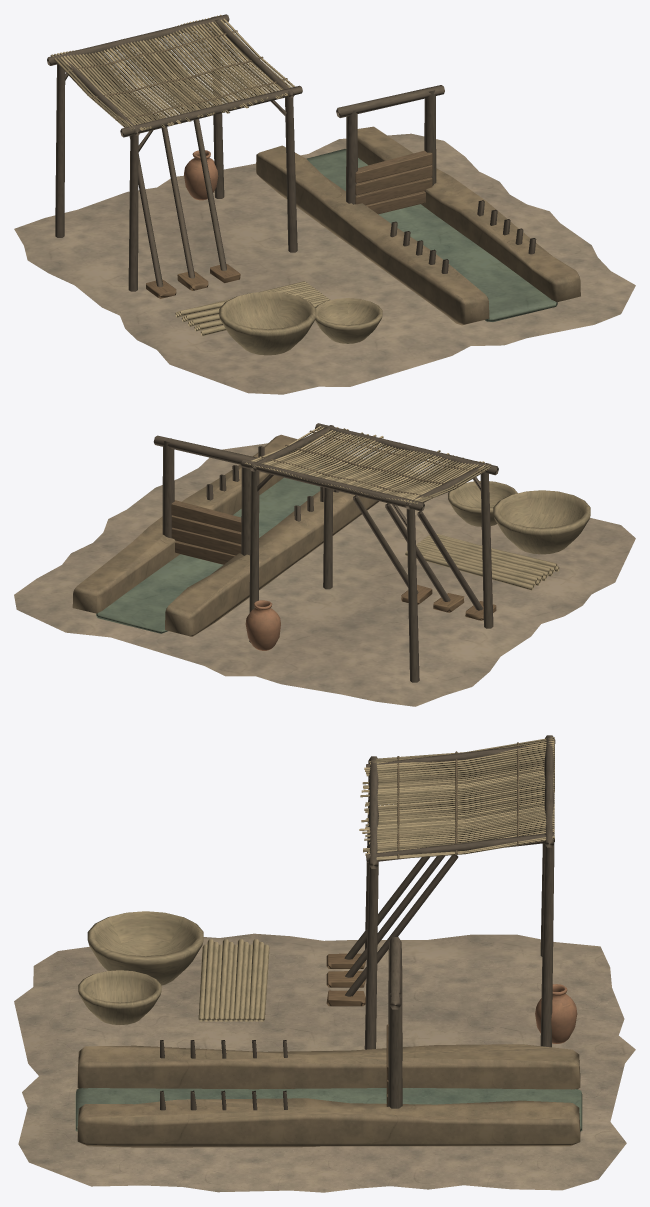
File: irrigation-yard.glb
3 views of the same model, one above another, from view 1: azimuth 30°, elevation 25°; view 2: azimuth 150°, elevation 25°; view 3: azimuth 270°, elevation 25° (orthographic). The views are drawn at different scales.
Parts seen in each view (by area): view 1: irrigation-yard; view 2: irrigation-yard; view 3: irrigation-yard.
Boxes of the visible parts, box(x1,y1,x2,y2) form: irrigation-yard: box(14, 14, 635, 394); irrigation-yard: box(14, 423, 635, 706); irrigation-yard: box(14, 735, 635, 1192).
Bounding box in the file's own units: 4.97 × 1.99 × 5.06.
4 materials, 4 textured.
